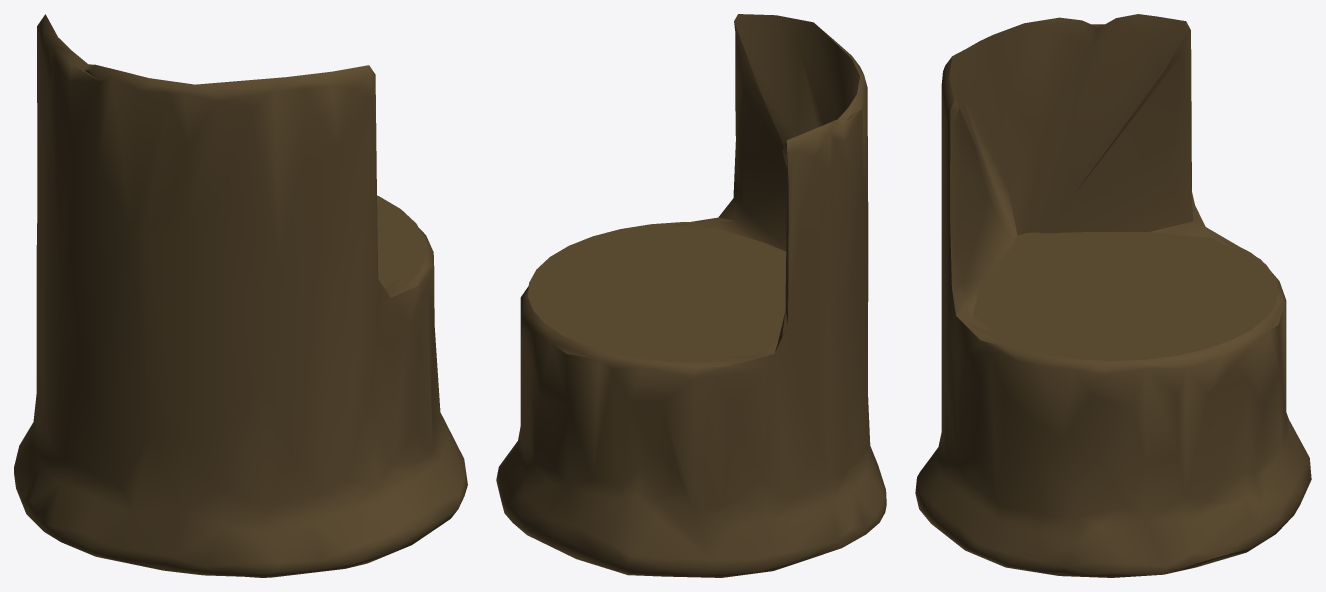
File: chair.fbx
3 renders of one model, left to right at view 1: azimuth 30°, elevation 25°; view 2: azimuth 150°, elevation 25°; view 3: azimuth 270°, elevation 25°, orthographic. The views are drawn at different scales.
Visible parts, largest first — view 1: chair_3, baumringe; view 2: chair_3, baumringe; view 3: chair_3, baumringe.
Part boxes in pixels (x1,y1,x2,y2): chair_3: [14, 14, 467, 577]; baumringe: [377, 195, 426, 291]; chair_3: [496, 14, 886, 577]; baumringe: [528, 222, 786, 362]; chair_3: [915, 14, 1311, 577]; baumringe: [970, 232, 1278, 360].
Bounding box in the file's own units: 91.14 × 109 × 91.34.
